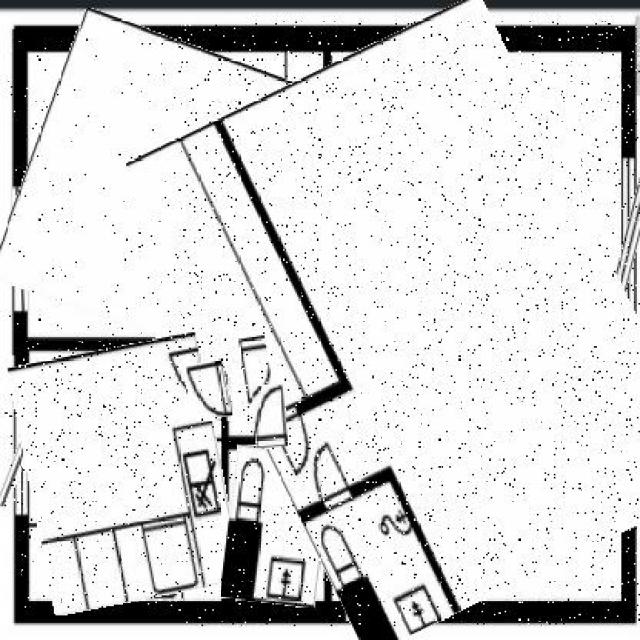door: (178, 20, 640, 626), (9, 29, 342, 356), (19, 340, 232, 608), (225, 446, 329, 606)
window: (188, 360, 230, 420), (254, 386, 288, 448), (242, 337, 272, 406)
zone: (609, 156, 640, 338), (5, 392, 37, 510), (609, 434, 640, 531), (15, 186, 28, 312)
